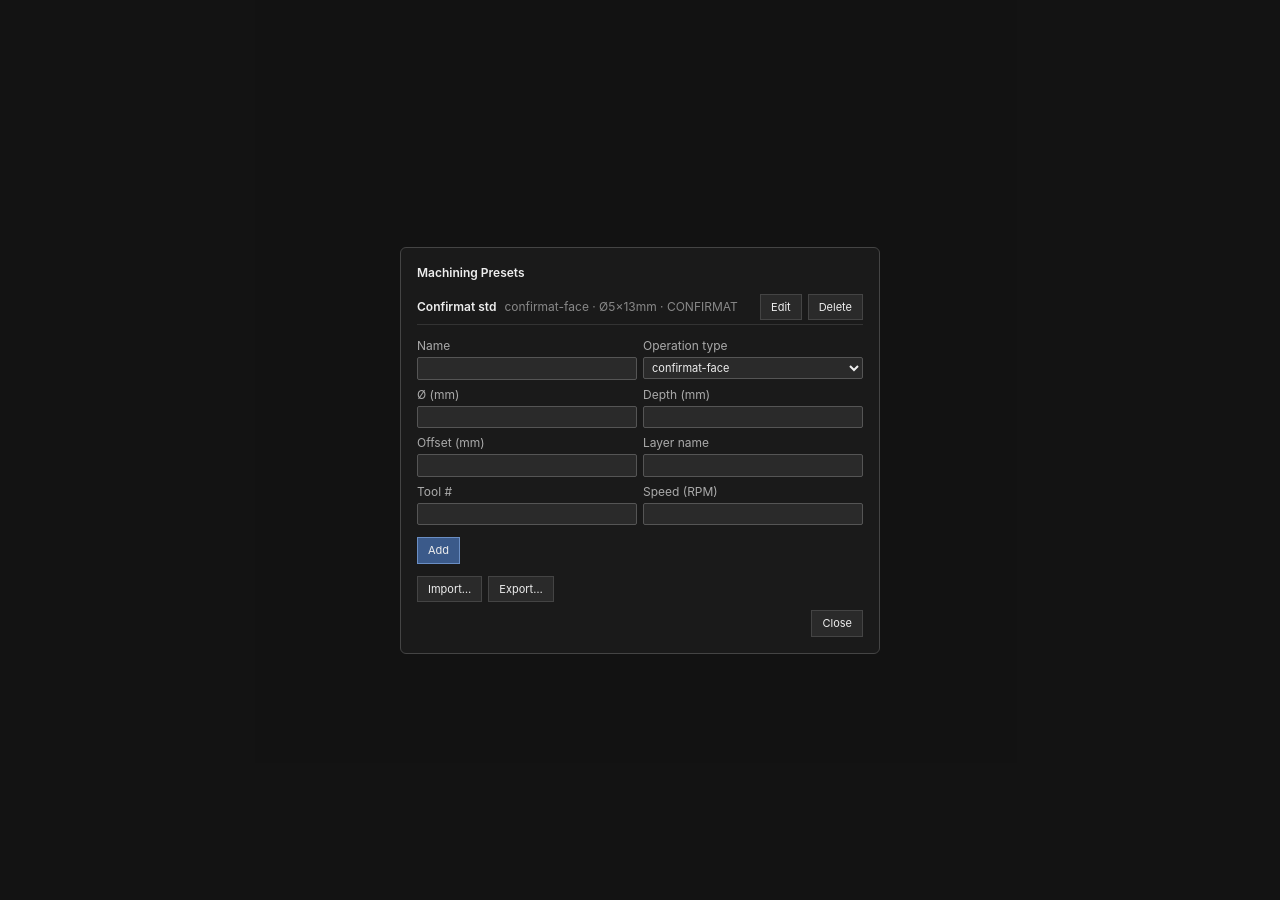
MachiningPresetsDialog › edit populates the form and Save updates the existing preset in place
Click the button "Edit" at (781, 307), box [760,294,802,320]
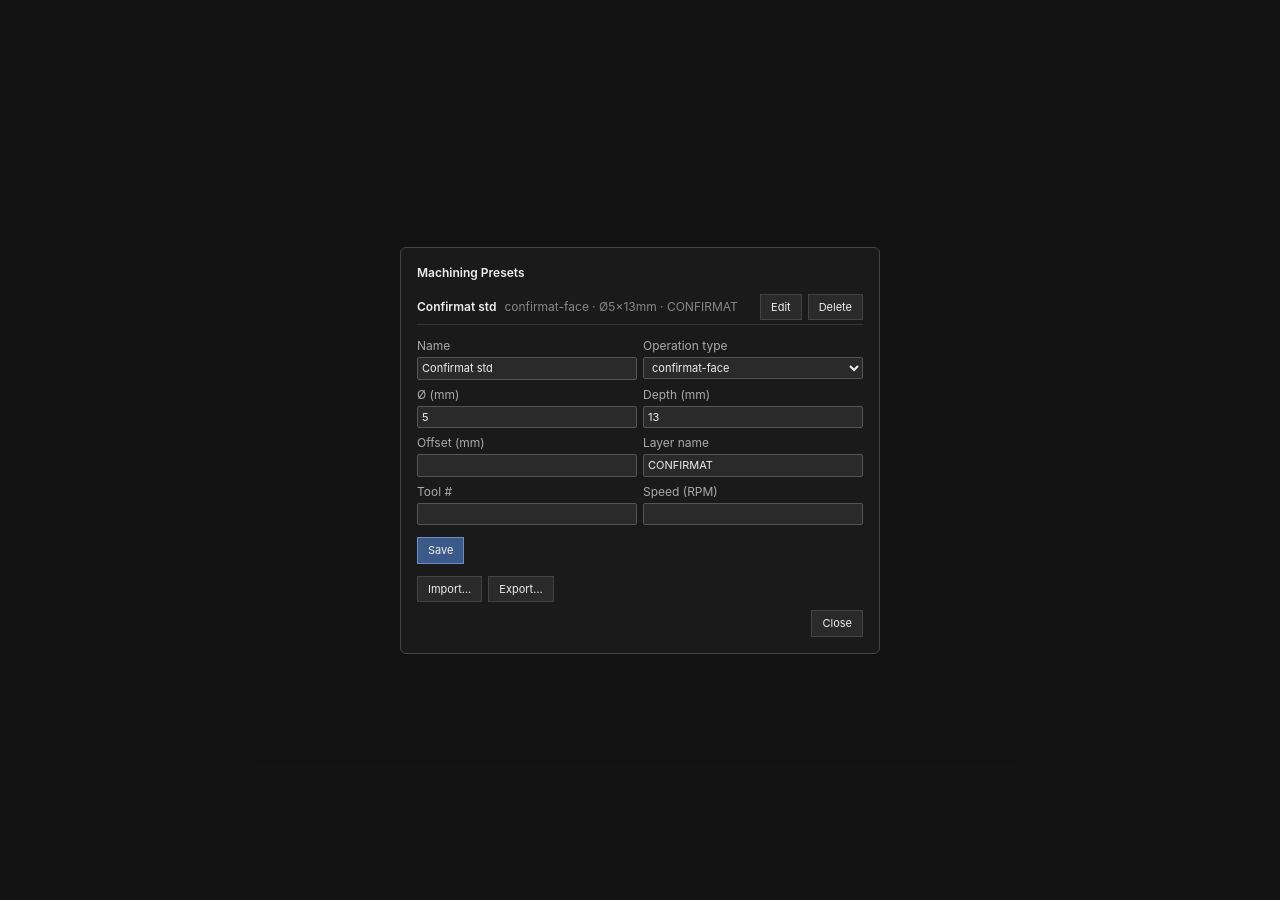
Now the field labelled "Name" holds "Confirmat std"
Replace the text in the field labelled "Name" with "Confirmat renamed" at (527, 368), box [417,357,637,380]
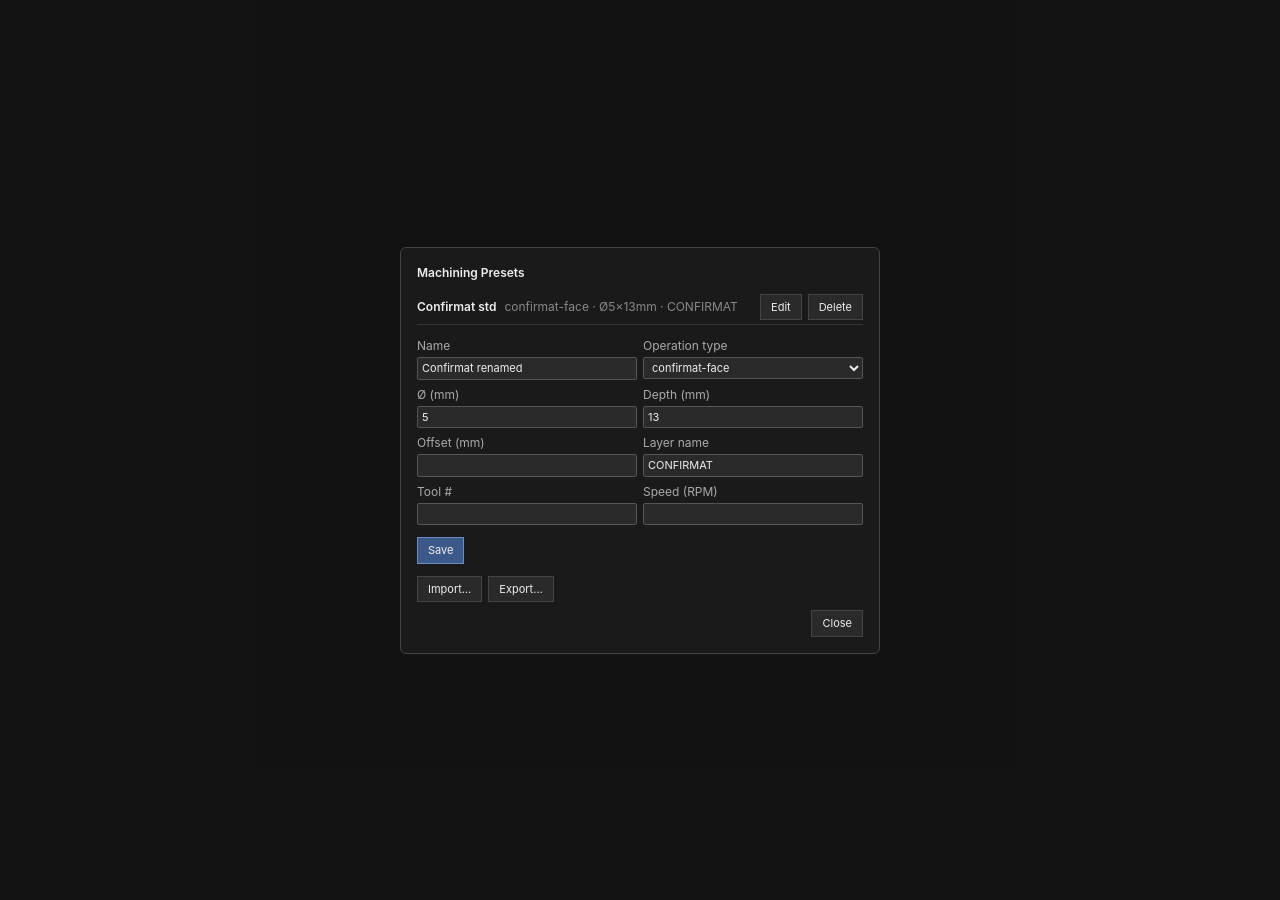
Click the button "Save" at (441, 550), box [417,537,464,564]
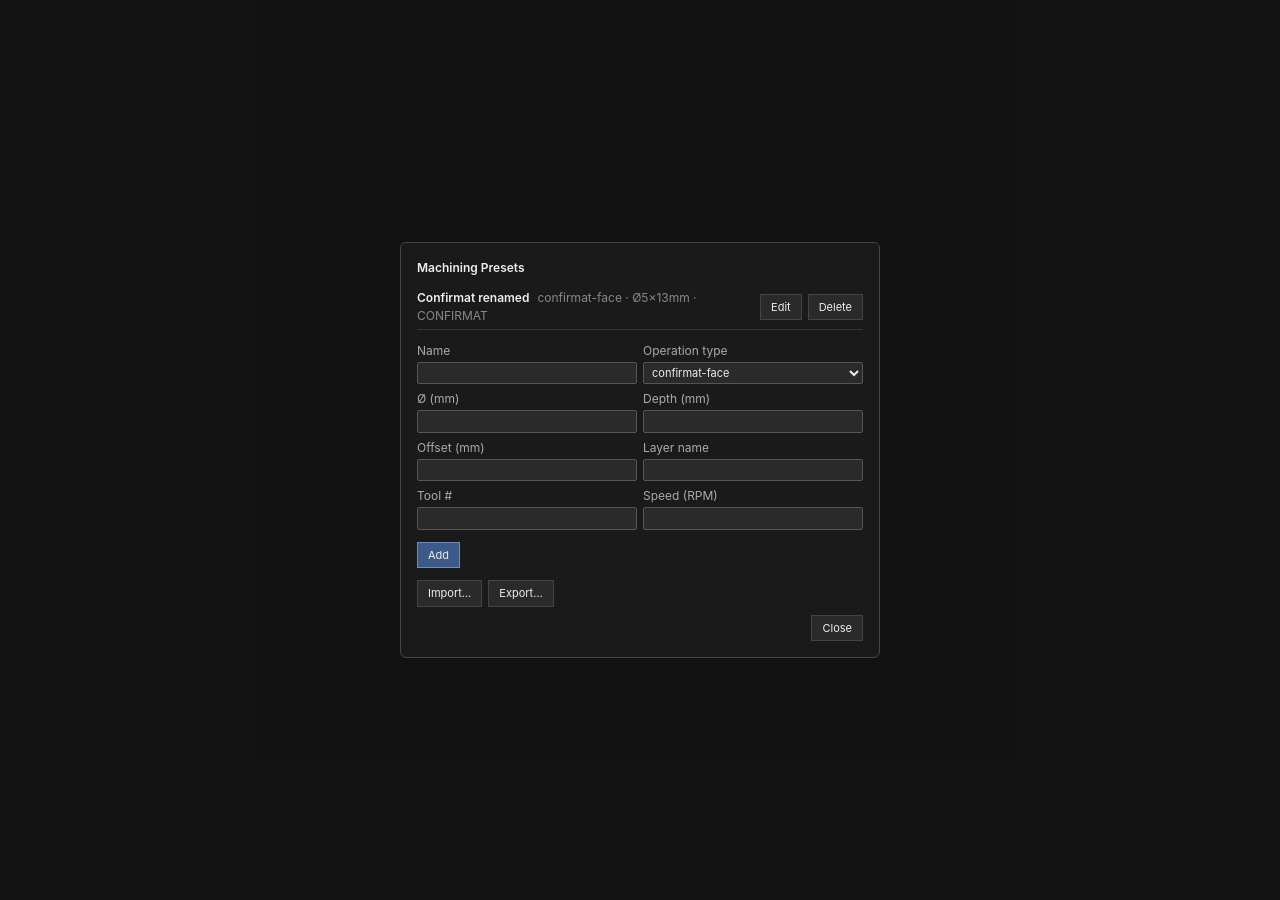
Now the text "Confirmat renamed" is shown, box [417,290,529,305]
